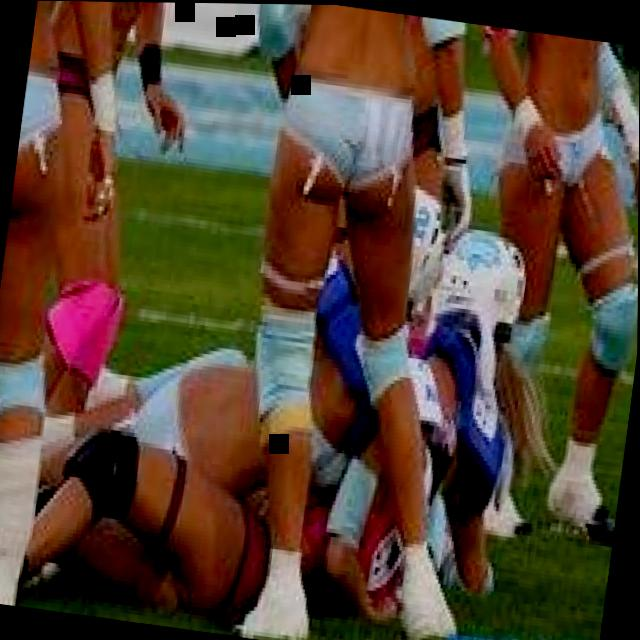Fall-Detected: (279, 176, 575, 638)
